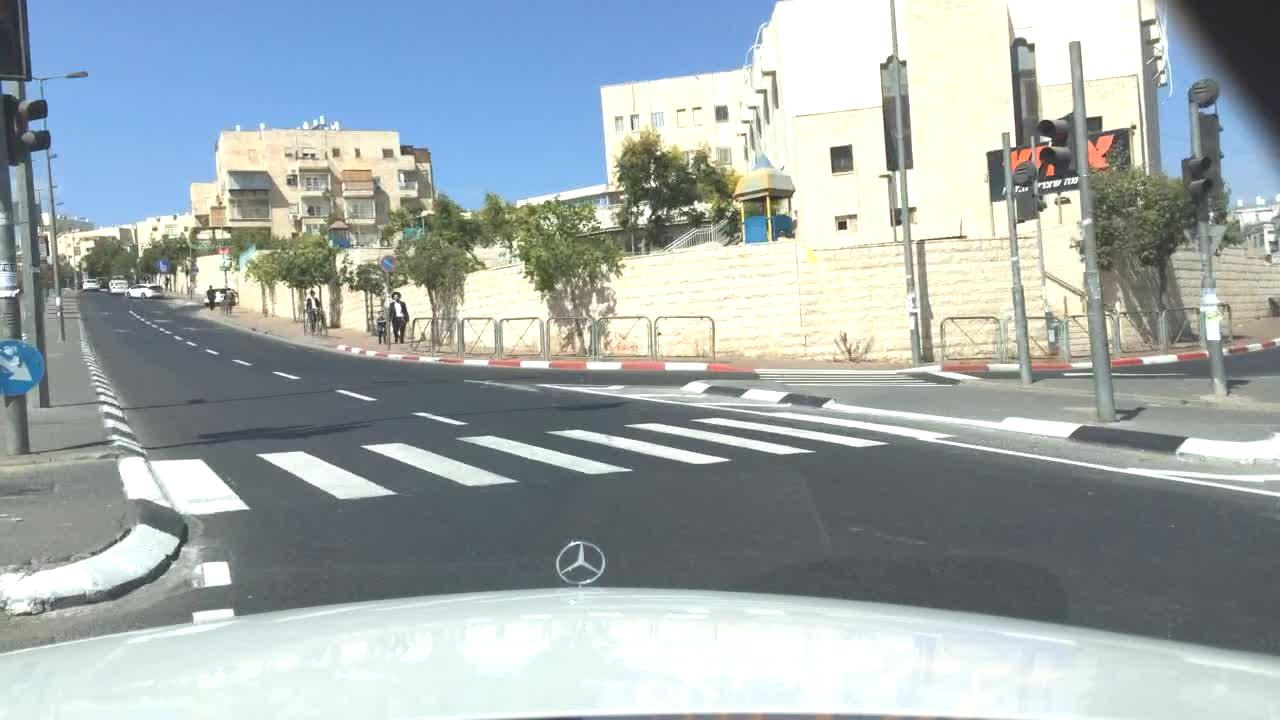Mercedes: (549, 536, 611, 588)
